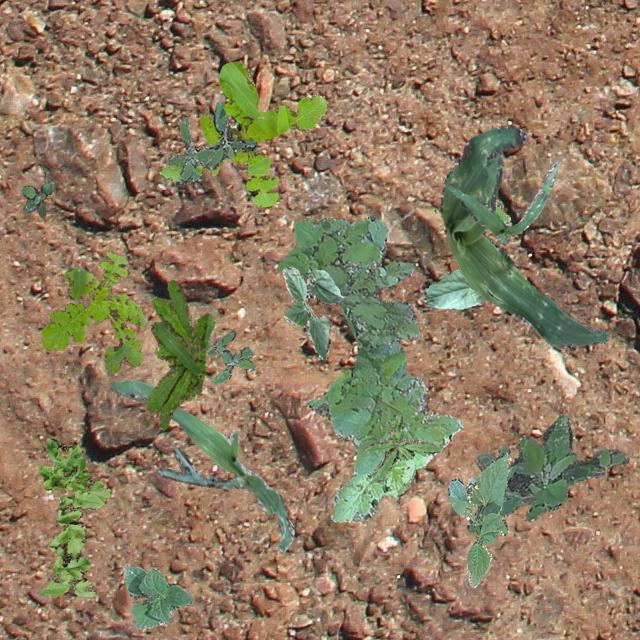crop: (440, 125, 608, 346), (108, 379, 294, 552), (446, 160, 560, 244), (446, 451, 508, 586), (282, 266, 342, 360), (122, 562, 194, 628), (422, 268, 482, 308)
weed: (276, 214, 462, 522), (158, 61, 326, 206), (466, 414, 628, 530), (40, 250, 144, 370), (38, 438, 108, 596), (144, 278, 213, 429), (168, 100, 256, 184), (364, 412, 439, 482), (207, 328, 254, 384), (20, 180, 52, 217), (494, 202, 509, 224)
